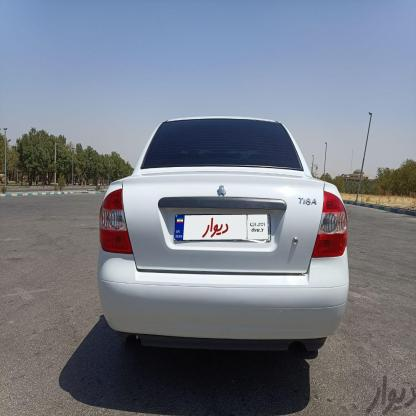Car: (95, 110, 349, 368)
